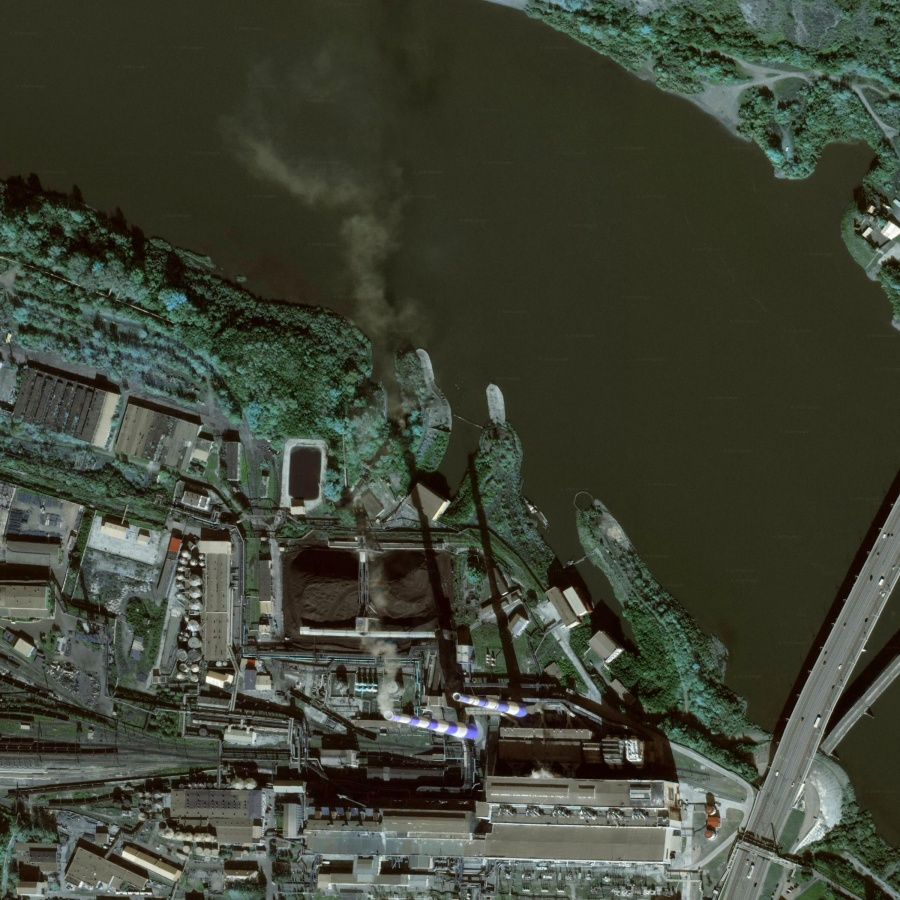PowerPlant: (262, 513, 666, 857)
